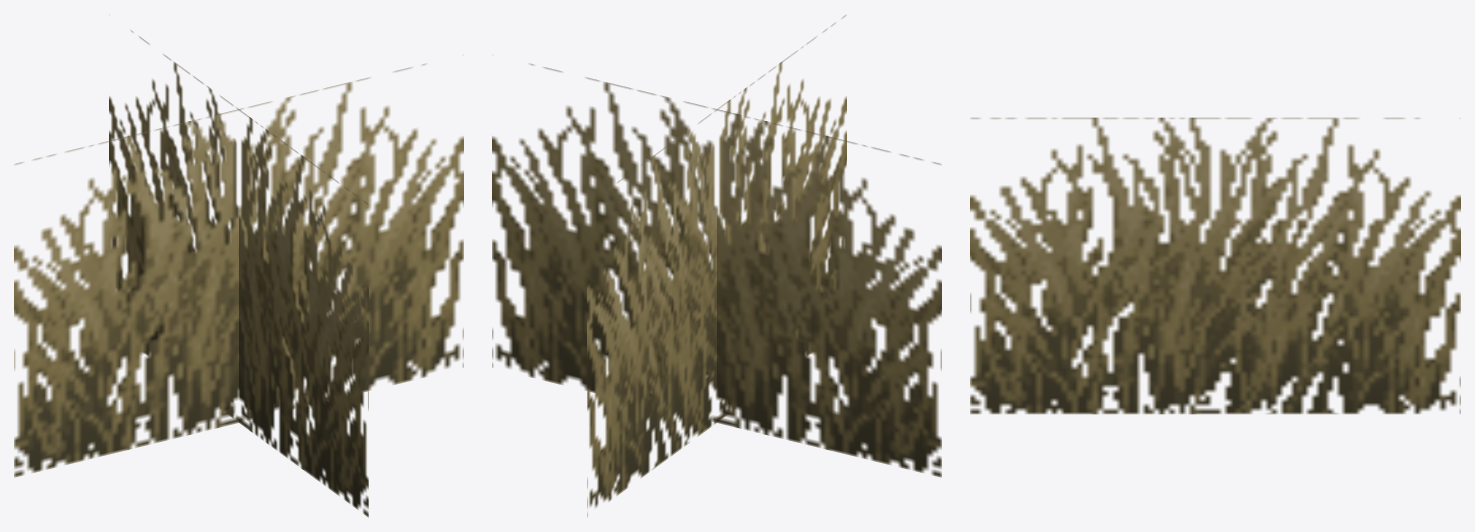
The model's file is pasto_02.glb.
The picture shows the model from 3 angles, left to right: view 1: azimuth 30°, elevation 25°; view 2: azimuth 150°, elevation 25°; view 3: azimuth 270°, elevation 25°; orthographic projection. The views are drawn at different scales.
Visible parts, largest first — view 1: pasto_02; view 2: pasto_02; view 3: pasto_02.
Part boxes in pixels (x1,y1,x2,y2): pasto_02: (14,30,463,517); pasto_02: (492,14,941,517); pasto_02: (970,117,1460,414).
Size of the model in its own units: 0.375 by 0.25 by 0.375.
Materials: 1 (1 with a texture image).
